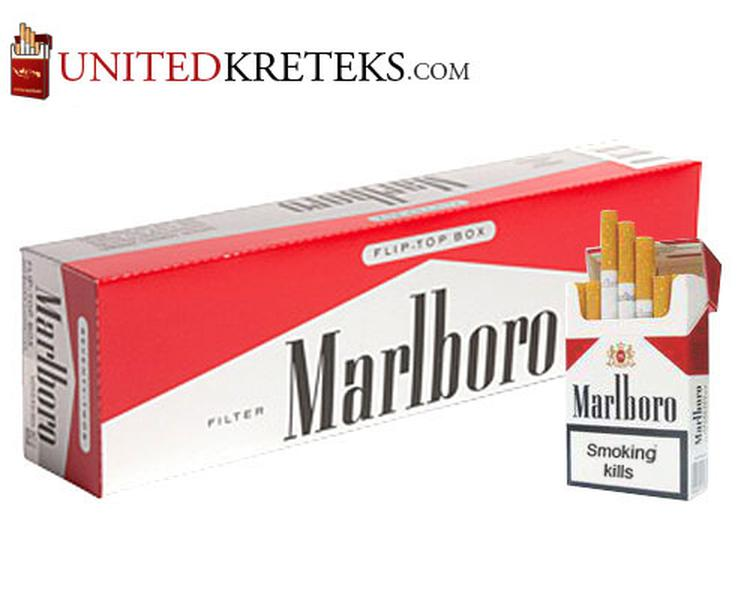marlboro_red: (566, 299, 689, 485)
